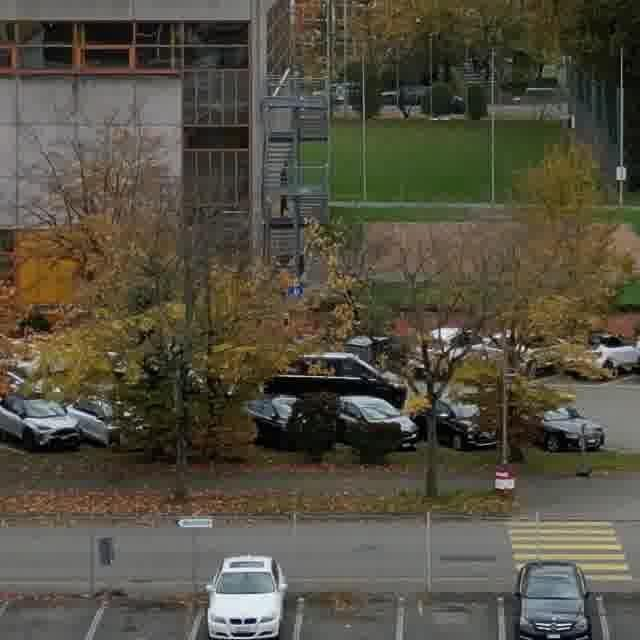Drohne: (431, 116, 451, 120)
